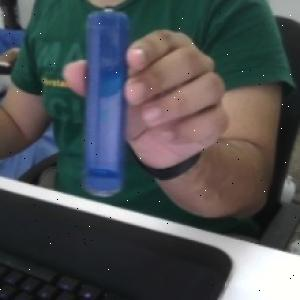Diamond-E-Ciggirate: (76, 7, 130, 198)
